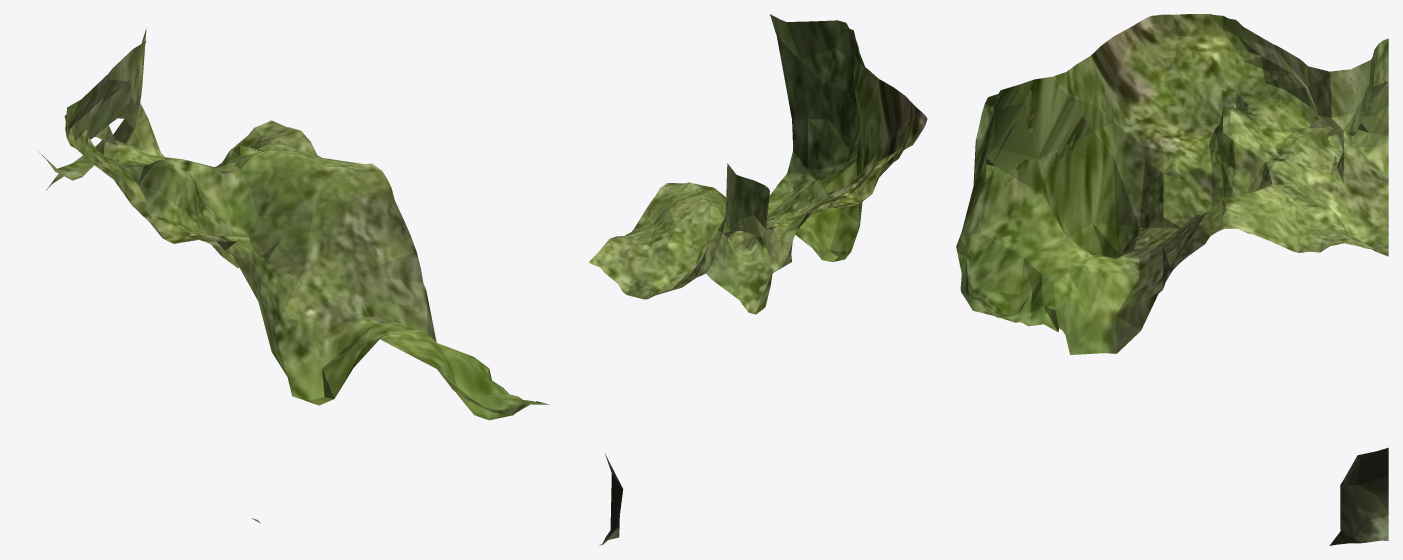
3 renders of one model, left to right at view 1: azimuth 30°, elevation 25°; view 2: azimuth 150°, elevation 25°; view 3: azimuth 270°, elevation 25°, orthographic. The views are drawn at different scales.
Size of the model in its own units: 1.78 by 2.95 by 2.79.
2 materials, 2 textured.
